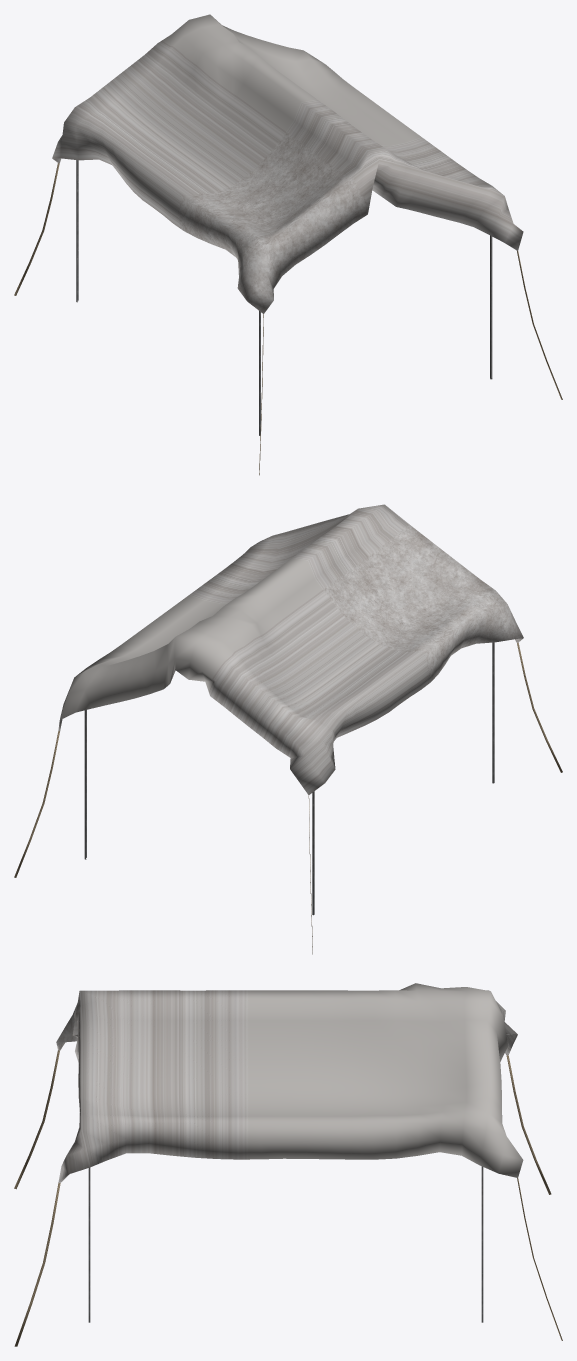
Rendered from Tent.fbx.
3 renders of one model, top to bottom at view 1: azimuth 30°, elevation 25°; view 2: azimuth 150°, elevation 25°; view 3: azimuth 270°, elevation 25°, orthographic. The views are drawn at different scales.
Visible parts, largest first — view 1: tent_cloth, tent_bones, tent_ropes; view 2: tent_cloth, tent_bones, tent_ropes; view 3: tent_cloth, tent_ropes, tent_bones.
Boxes of the visible parts, bbox=[...] form: tent_cloth: bbox=[52, 14, 523, 313]; tent_bones: bbox=[76, 160, 492, 435]; tent_ropes: bbox=[14, 163, 562, 475]; tent_cloth: bbox=[58, 504, 523, 794]; tent_bones: bbox=[84, 642, 494, 915]; tent_ropes: bbox=[14, 642, 562, 954]; tent_cloth: bbox=[56, 983, 523, 1182]; tent_ropes: bbox=[14, 1050, 562, 1346]; tent_bones: bbox=[88, 1166, 483, 1322].
Size of the model in its own units: 24369 by 19994 by 35427.
